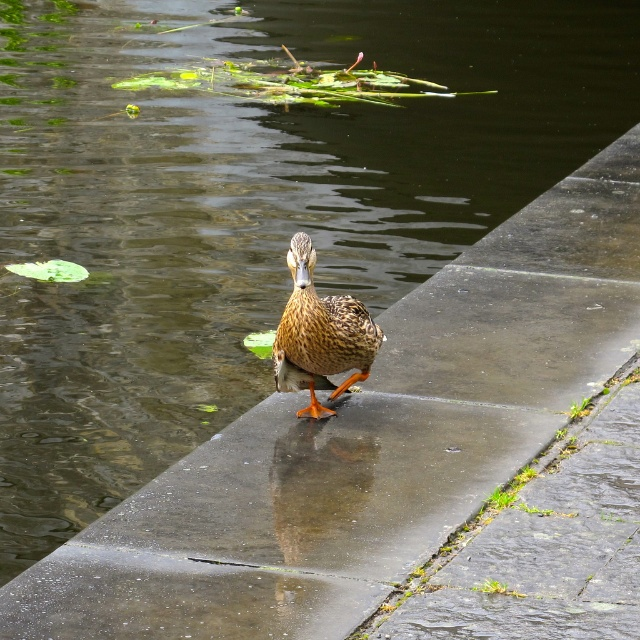Duck: (261, 234, 386, 423)
